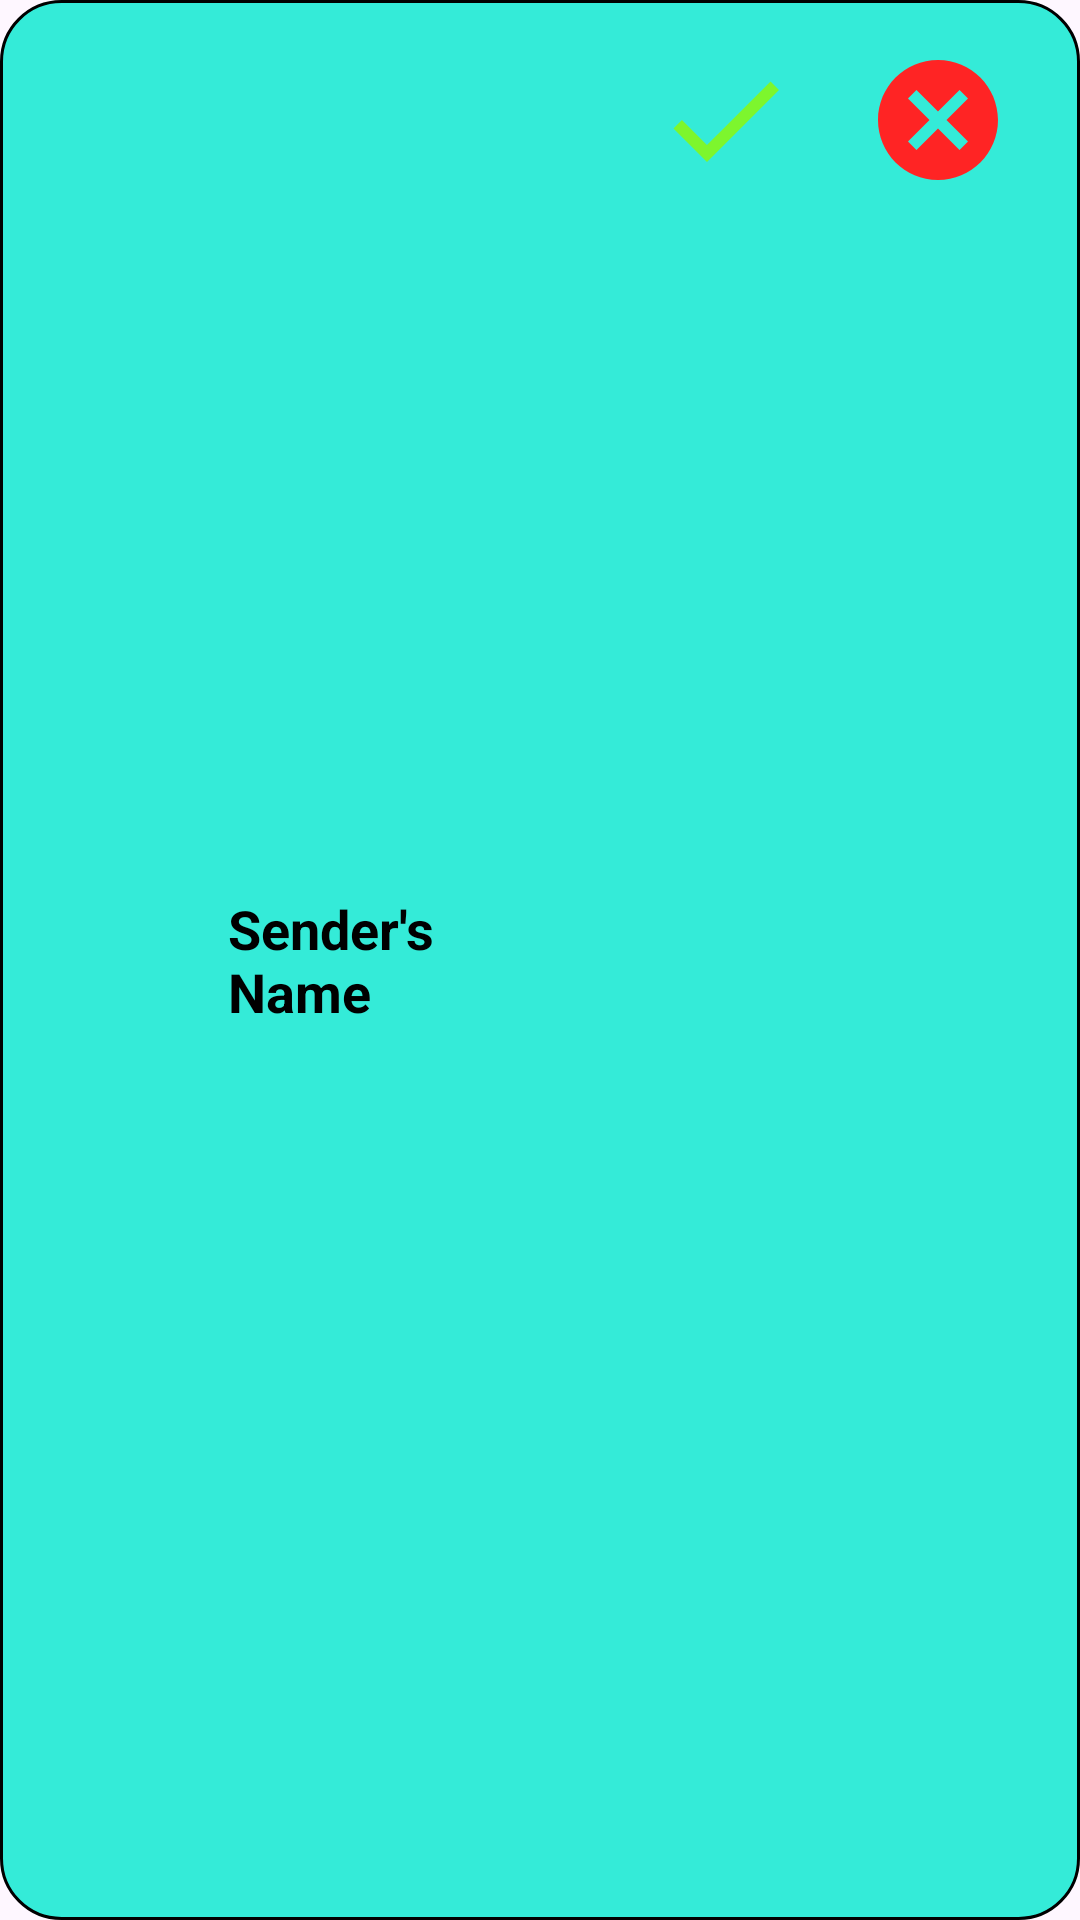

Icon click points for this 1080*1920 phone screenshot, format (x,y):
Accept: (726,121)
Reject: (938,120)
